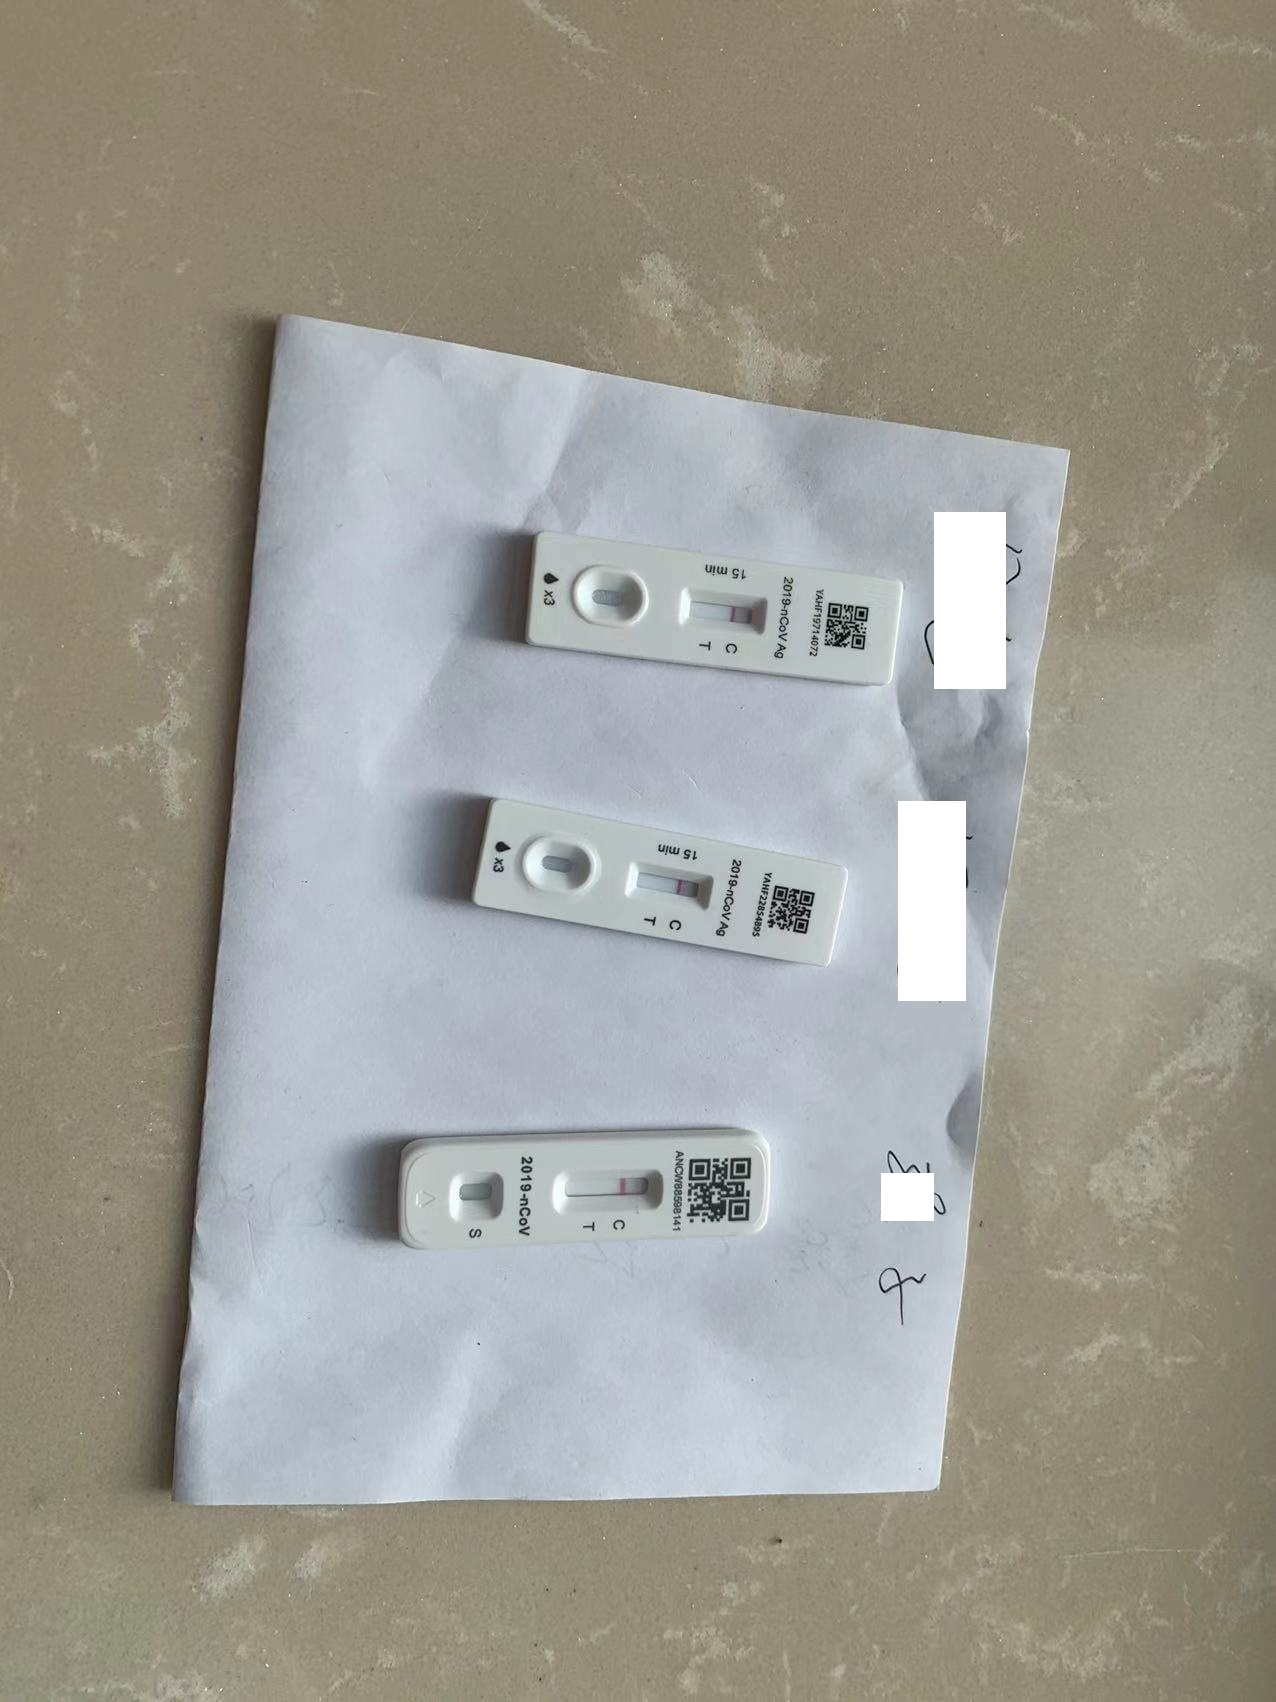negative: (548, 1173, 662, 1214), (676, 588, 769, 629), (627, 863, 710, 901)
